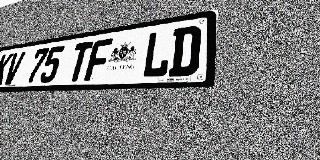5: (38, 45, 65, 83)
7: (24, 48, 50, 84)
D: (168, 25, 202, 77)
F: (84, 38, 113, 81)
K: (0, 53, 14, 85)
L: (141, 29, 173, 78)
T: (65, 41, 94, 82)
V: (2, 51, 26, 85)
